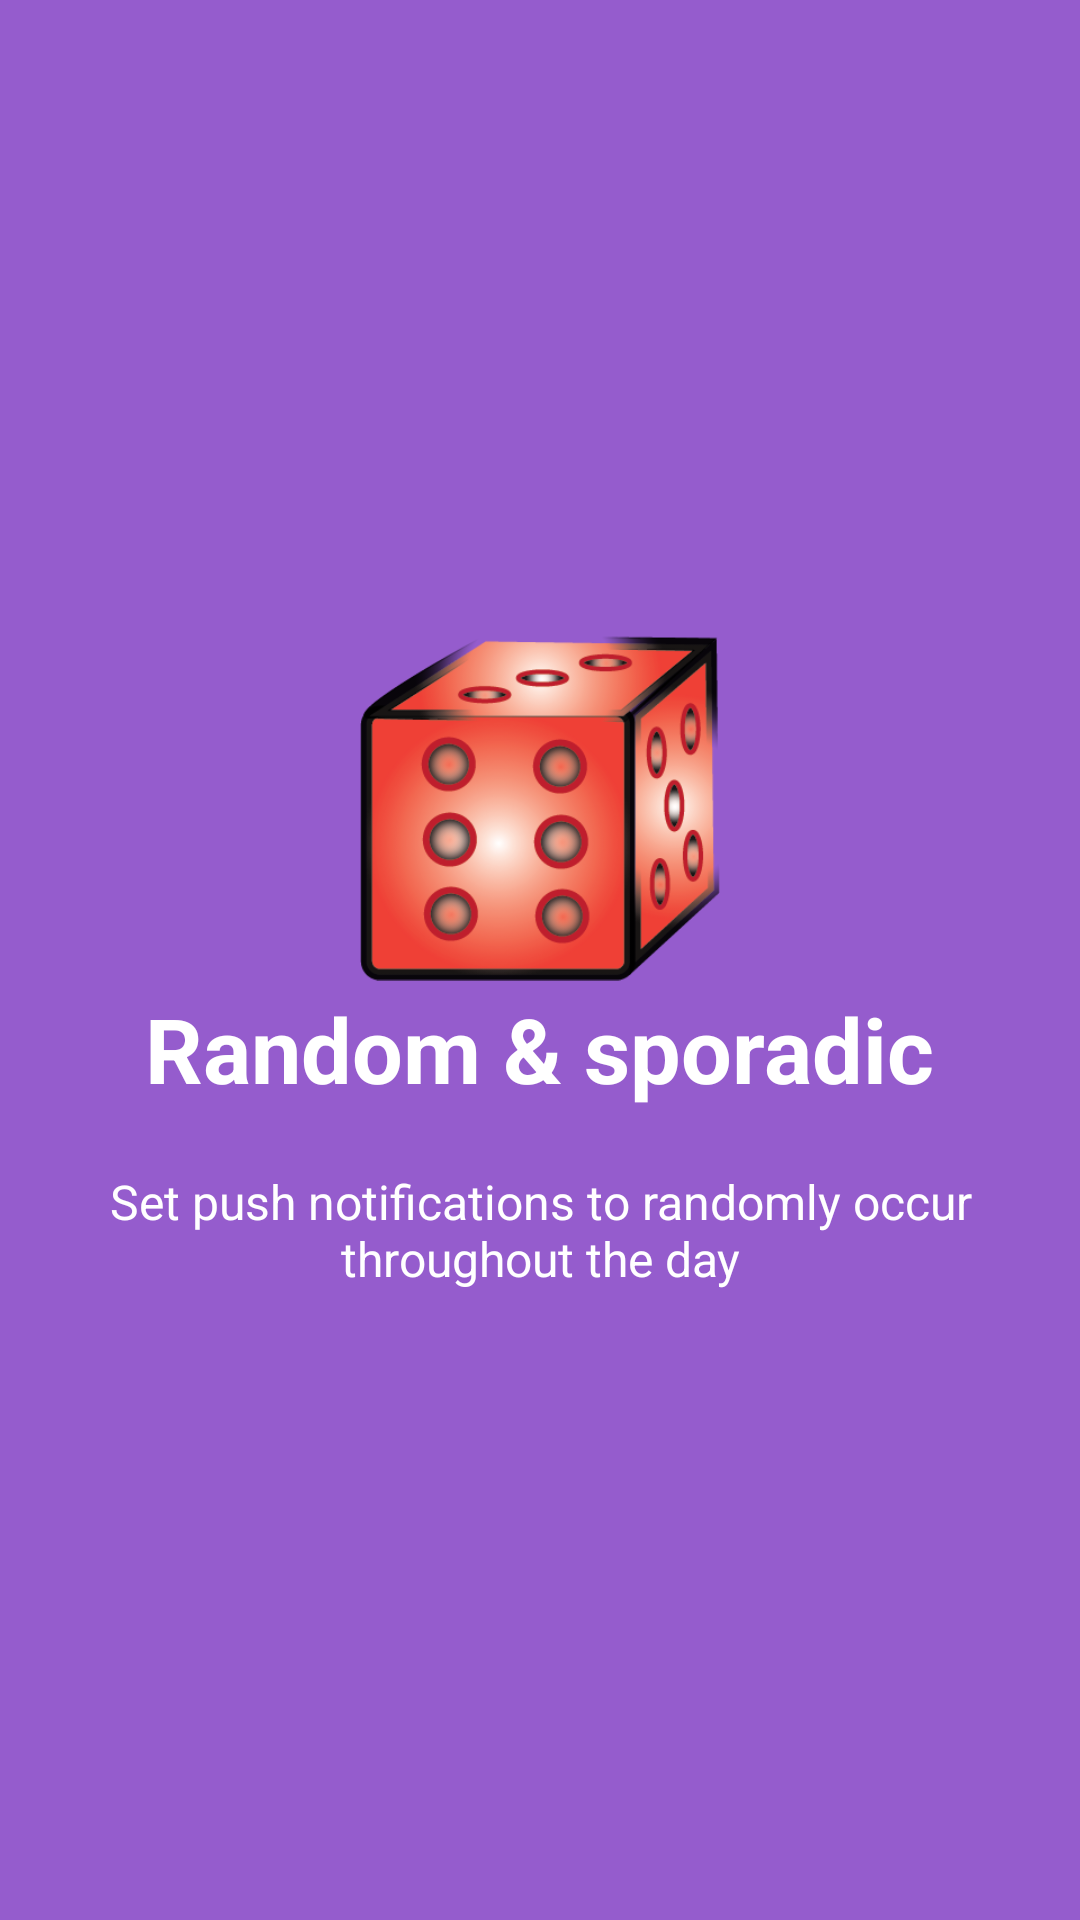

Icon bounding boxes for this 1080*1920 phone screenshot, format (x1=x1, y1=y1, x2=x2, y2=y2):
die high dens: (x1=360, y1=636, x2=720, y2=981)
